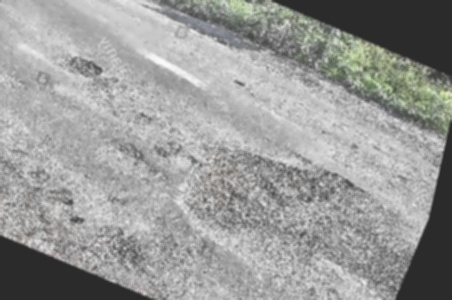pothole: (162, 113, 380, 291), (53, 44, 111, 87), (45, 181, 83, 209), (113, 138, 151, 164), (67, 211, 90, 229), (232, 76, 250, 90)
